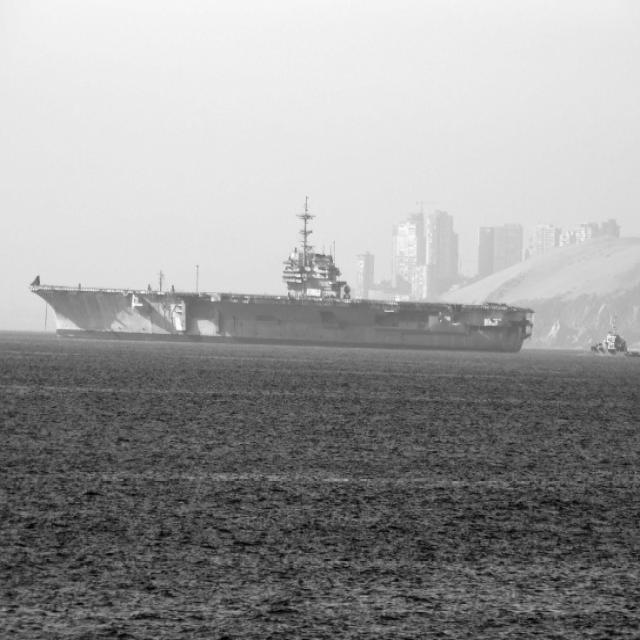Portanaves: (28, 195, 537, 357)
